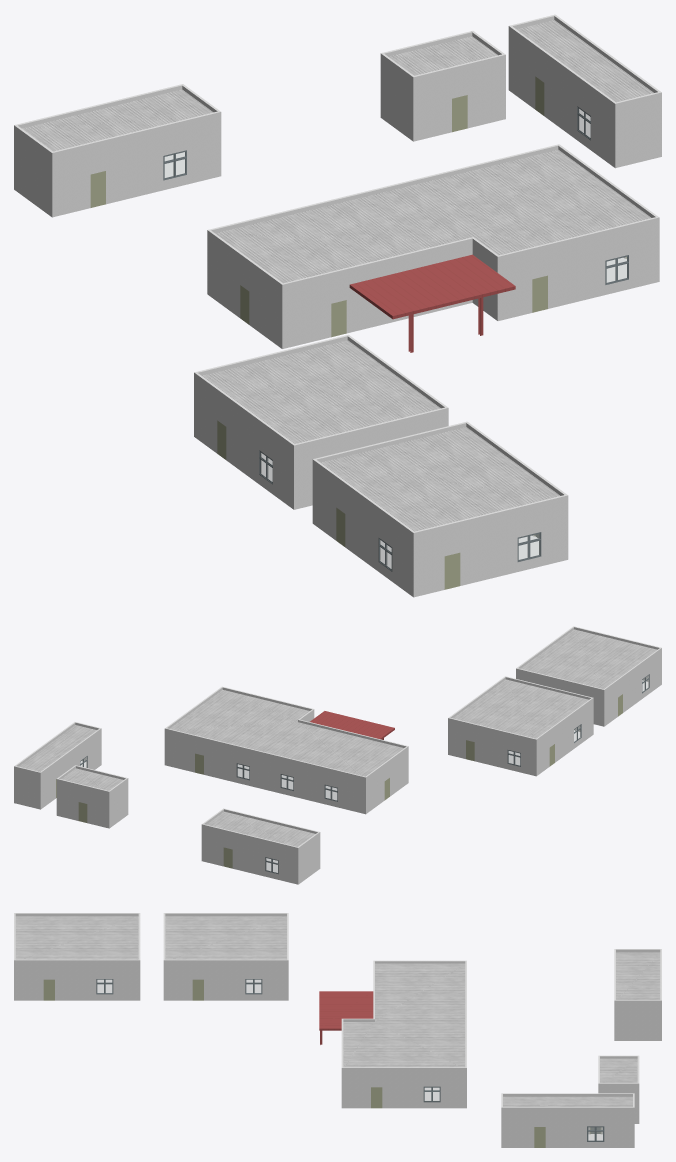
Rendered from Plan(REF)_levels(1)_window(W Double Sash 23_5)_wall(WAFRA WALL)_quoin(N)_cornice(N).fbx.
3 renders of one model, top to bottom at view 1: azimuth 30°, elevation 25°; view 2: azimuth 150°, elevation 25°; view 3: azimuth 270°, elevation 25°, orthographic. The views are drawn at different scales.
Parts seen in each view (by area): view 1: WAFRA Stucco - White Rough 23, WAFRA Roof - Corrugated Sheet Matte 23, WAFRA Roof - Standing Seam Red Coat 23, Color - Beige, Metal - Finish - Aluminum, Glass - Clear; view 2: WAFRA Stucco - White Rough 23, WAFRA Roof - Corrugated Sheet Matte 23, WAFRA Roof - Standing Seam Red Coat 23, Color - Beige, Metal - Finish - Aluminum, Glass - Clear; view 3: WAFRA Roof - Corrugated Sheet Matte 23, WAFRA Stucco - White Rough 23, WAFRA Roof - Standing Seam Red Coat 23, Color - Beige, Metal - Finish - Aluminum, Glass - Clear.
Boxes of the visible parts, x1=… form: WAFRA Stucco - White Rough 23: x1=14, y1=14, x2=661, y2=597; WAFRA Roof - Corrugated Sheet Matte 23: x1=22, y1=20, x2=653, y2=531; WAFRA Roof - Standing Seam Red Coat 23: x1=349, y1=254, x2=515, y2=352; Color - Beige: x1=90, y1=76, x2=626, y2=589; Metal - Finish - Aluminum: x1=163, y1=106, x2=628, y2=571; Glass - Clear: x1=165, y1=109, x2=626, y2=568; WAFRA Stucco - White Rough 23: x1=14, y1=626, x2=661, y2=884; WAFRA Roof - Corrugated Sheet Matte 23: x1=19, y1=629, x2=656, y2=846; WAFRA Roof - Standing Seam Red Coat 23: x1=310, y1=711, x2=394, y2=739; Color - Beige: x1=56, y1=694, x2=622, y2=868; Metal - Finish - Aluminum: x1=80, y1=674, x2=649, y2=874; Glass - Clear: x1=80, y1=675, x2=648, y2=872; WAFRA Roof - Corrugated Sheet Matte 23: x1=15, y1=916, x2=660, y2=1106; WAFRA Stucco - White Rough 23: x1=14, y1=913, x2=661, y2=1147; WAFRA Roof - Standing Seam Red Coat 23: x1=319, y1=991, x2=373, y2=1044; Color - Beige: x1=43, y1=979, x2=601, y2=1147; Metal - Finish - Aluminum: x1=96, y1=979, x2=604, y2=1141; Glass - Clear: x1=97, y1=980, x2=602, y2=1140.
Bounding box in the file's own units: 4148 × 5833 × 400.
11 materials, 4 textured.
